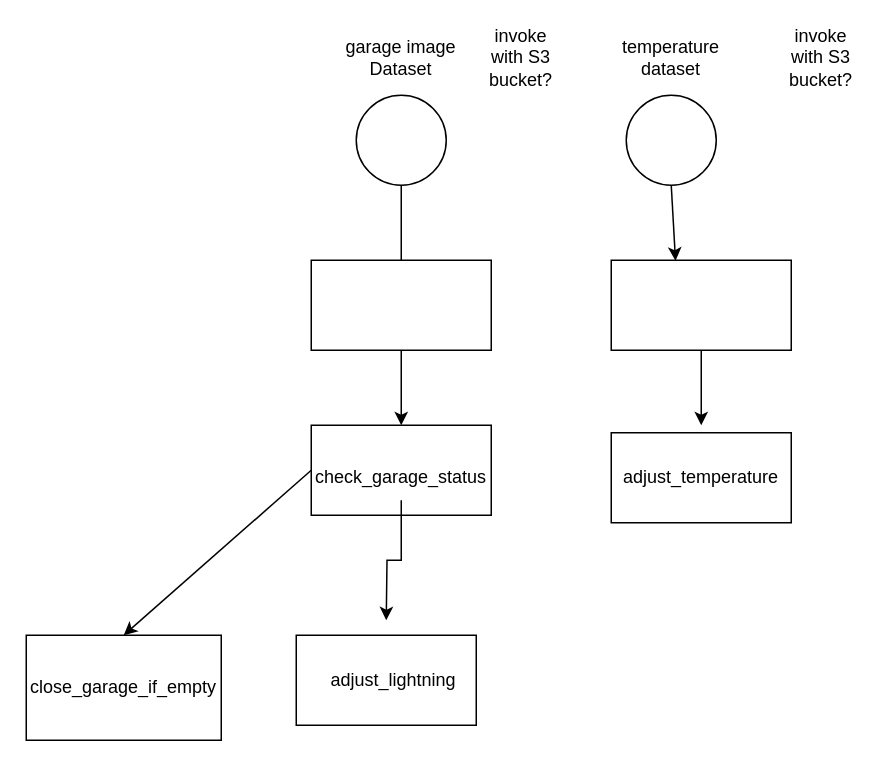
The diagram is 893 pixels wide and 767 high, and some of its shapes have lost their labels. The centre of each missing label's shape, as x and y in pixels:
"check_temperatur" belongs at [700,304].
"get_images" belongs at [400,304].
